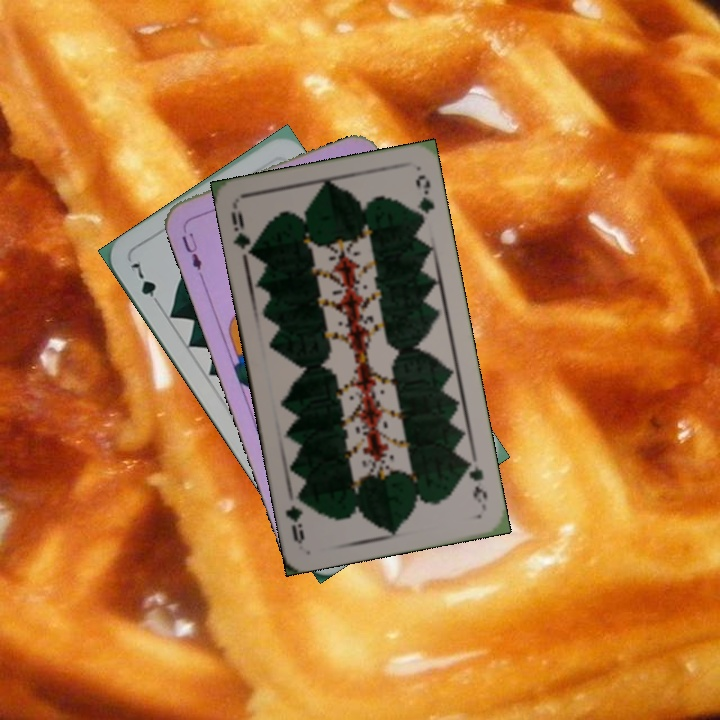EU: (177, 221, 206, 279)
G7: (126, 258, 164, 310)
G9: (227, 203, 258, 262), (460, 452, 490, 511)
